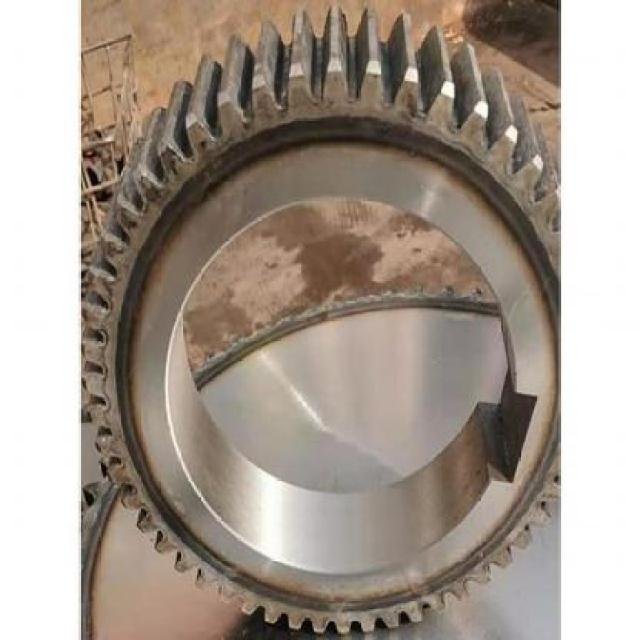Gear: (82, 3, 562, 637)
